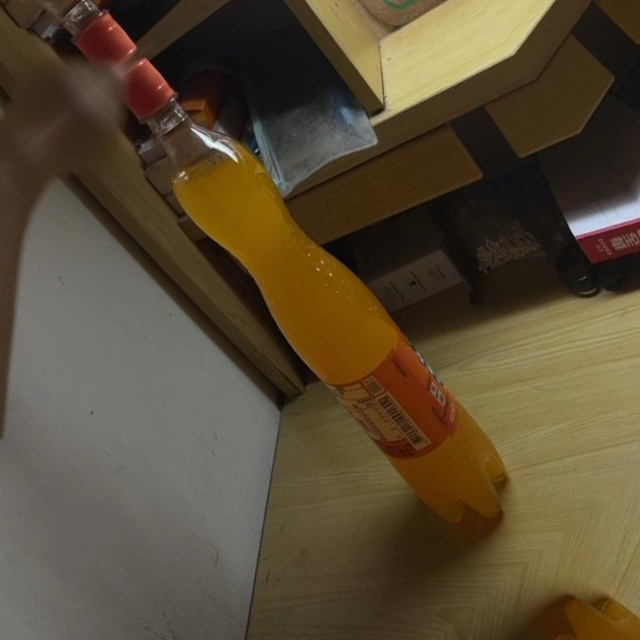Fanta: (84, 38, 535, 549)
